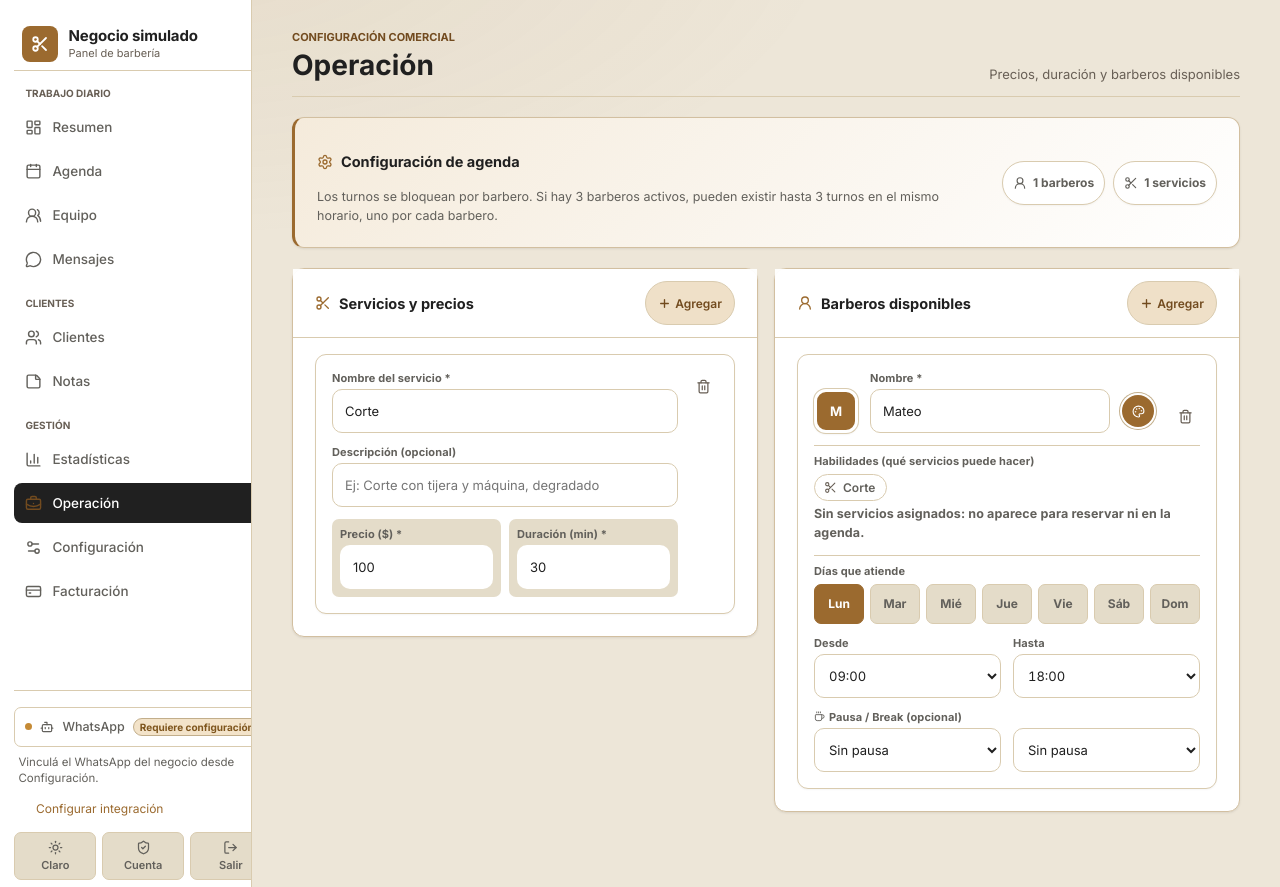
Test case: Operación: rollback por campo y resultado confirmado › cero filas actualizadas en servicios no se toma como guardado confirmado
This screenshot has width=1280, height=887.
Replace the text in the field labelled "Nombre del servicio *" with "Cambio sin permiso" at (505, 412), box [332, 390, 678, 434]
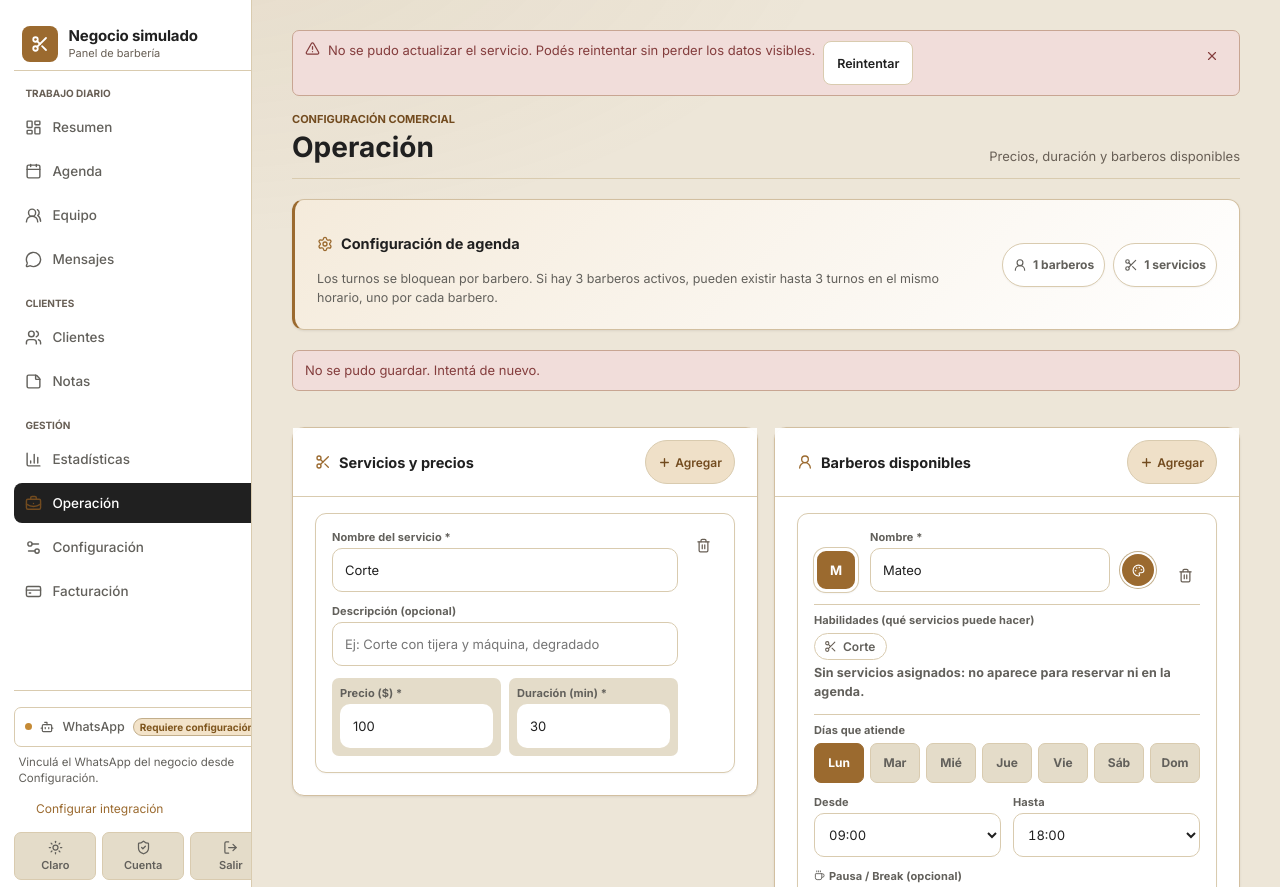
Check: the field labelled "Nombre del servicio *" holds "Corte", box [332, 548, 678, 592]
Check: the text "No se pudo guardar. Intentá de nuevo." is shown, box [292, 350, 1240, 391]
